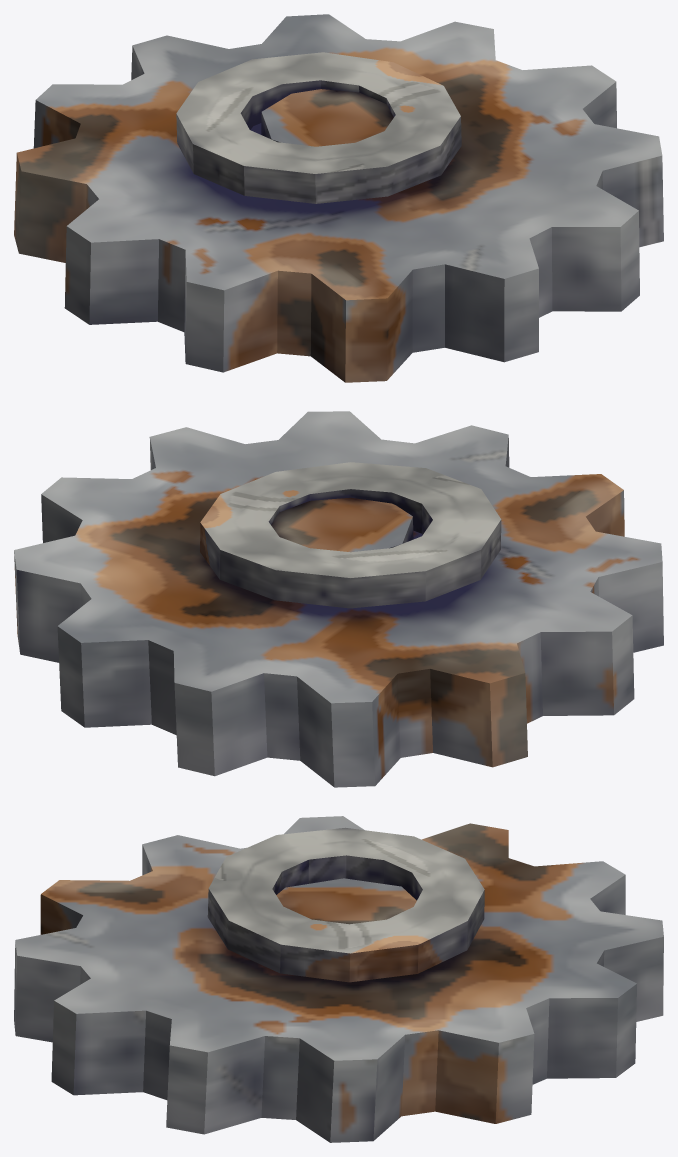
Rendered from RustyGear.glb.
3 views of the same model, one above another, from view 1: azimuth 30°, elevation 25°; view 2: azimuth 150°, elevation 25°; view 3: azimuth 270°, elevation 25° (orthographic). The views are drawn at different scales.
Parts seen in each view (by area): view 1: Gear, Hub; view 2: Gear, Hub; view 3: Gear, Hub.
Part boxes in pixels (x1=…): Gear: x1=14, y1=14, x2=663, y2=382; Hub: x1=176, y1=52, x2=461, y2=203; Gear: x1=14, y1=411, x2=663, y2=787; Hub: x1=200, y1=462, x2=501, y2=608; Gear: x1=14, y1=816, x2=663, y2=1142; Hub: x1=207, y1=827, x2=484, y2=982.
Bounding box in the file's own units: 0.9765 × 0.2793 × 1.03.
Materials: 2 (2 with a texture image).
